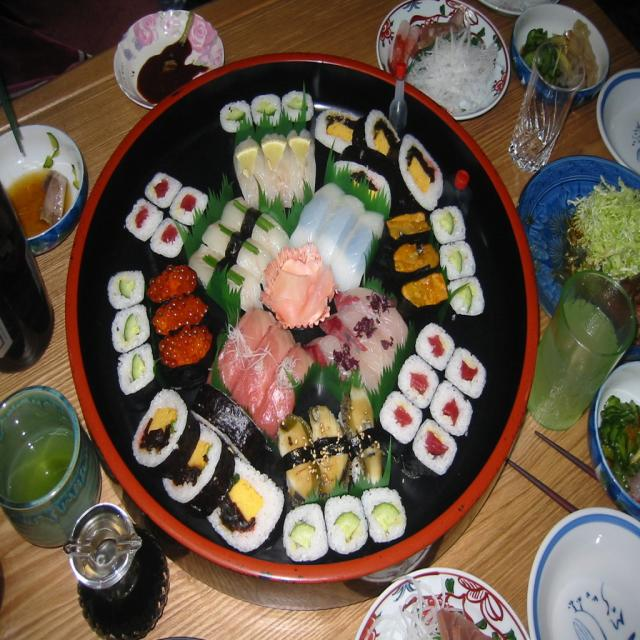non-organic waste: (366, 0, 540, 140), (523, 491, 640, 640), (86, 10, 235, 97)
